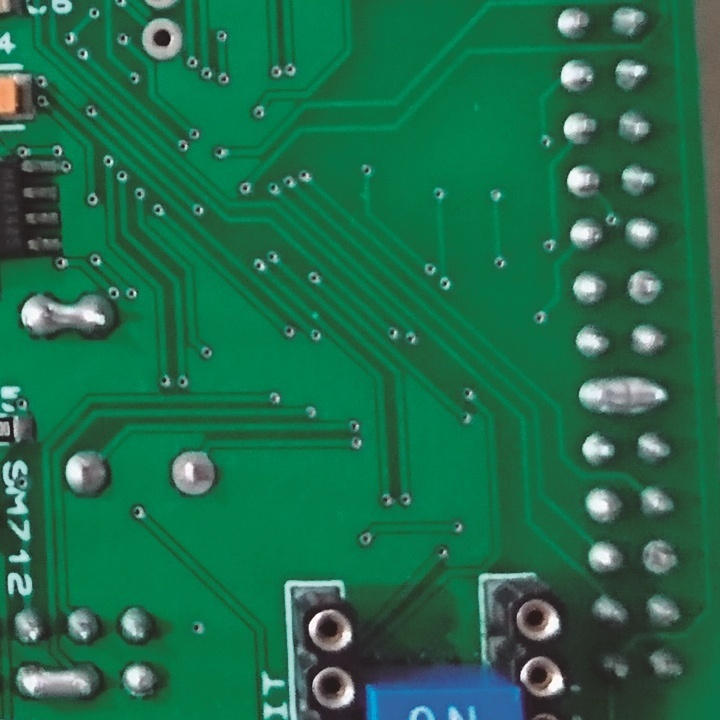F: (167, 447, 219, 498), (139, 17, 187, 60), (559, 55, 601, 100), (626, 268, 668, 309), (565, 164, 607, 205), (645, 538, 683, 581)
P: (14, 290, 122, 342), (573, 372, 673, 417), (13, 660, 107, 706)
